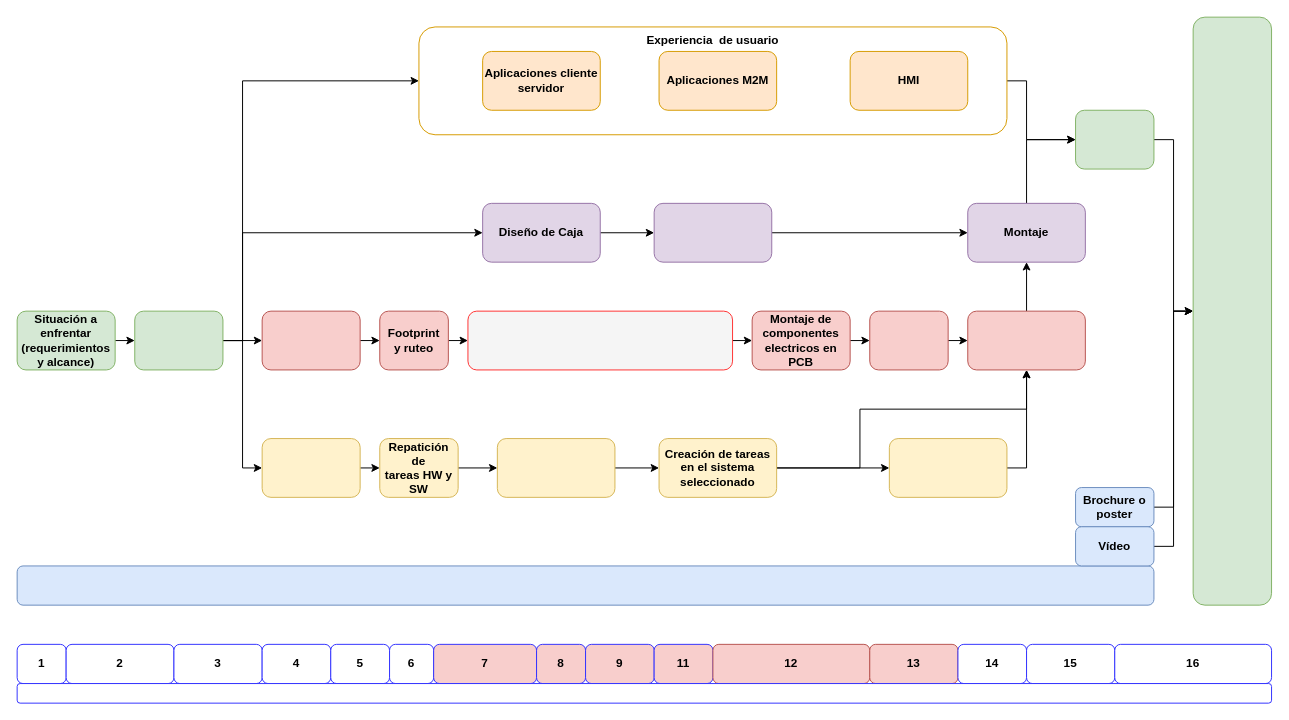
Some shapes in this 1289 by 720 pixel diagram are drawn without their labels. Each missing label, with the centre of its shape:
Creación de Esquemáticos: the point at 310,340
Demo: the point at 1114,139
Diagramas de flujo de tareas: the point at 310,467
Documentación del proceso en GIT: the point at 585,585
Fabricación: the point at 712,232
Fabricación de PCB: the point at 600,340
Ideación (Artefacto) Diagrama de bloques: the point at 178,340
Implementación de tareas en el sistema (validación): the point at 1026,340
Presentación del proyecto: the point at 1232,310
Pruebas y correciones: the point at 908,340
Selección del firmware: the point at 555,467
Semanas: the point at 644,693
Simulaciones e implementación de tareas en placas de desarrollo: the point at 947,467
